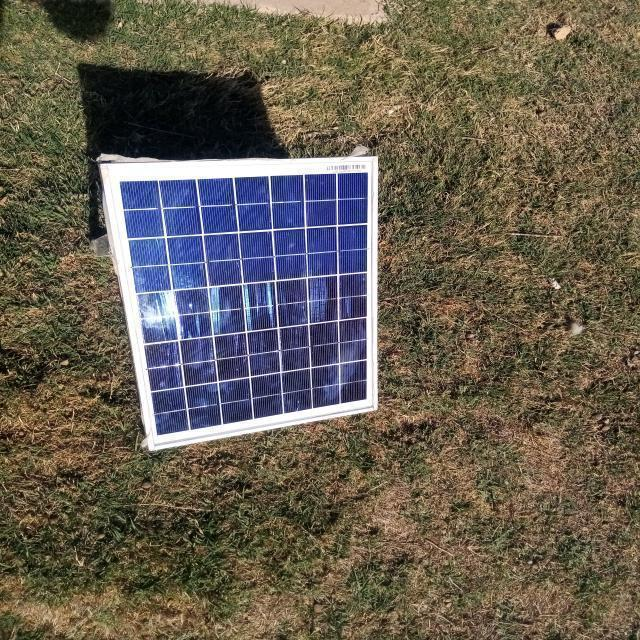Normal Solar Panel: (101, 157, 379, 450)
